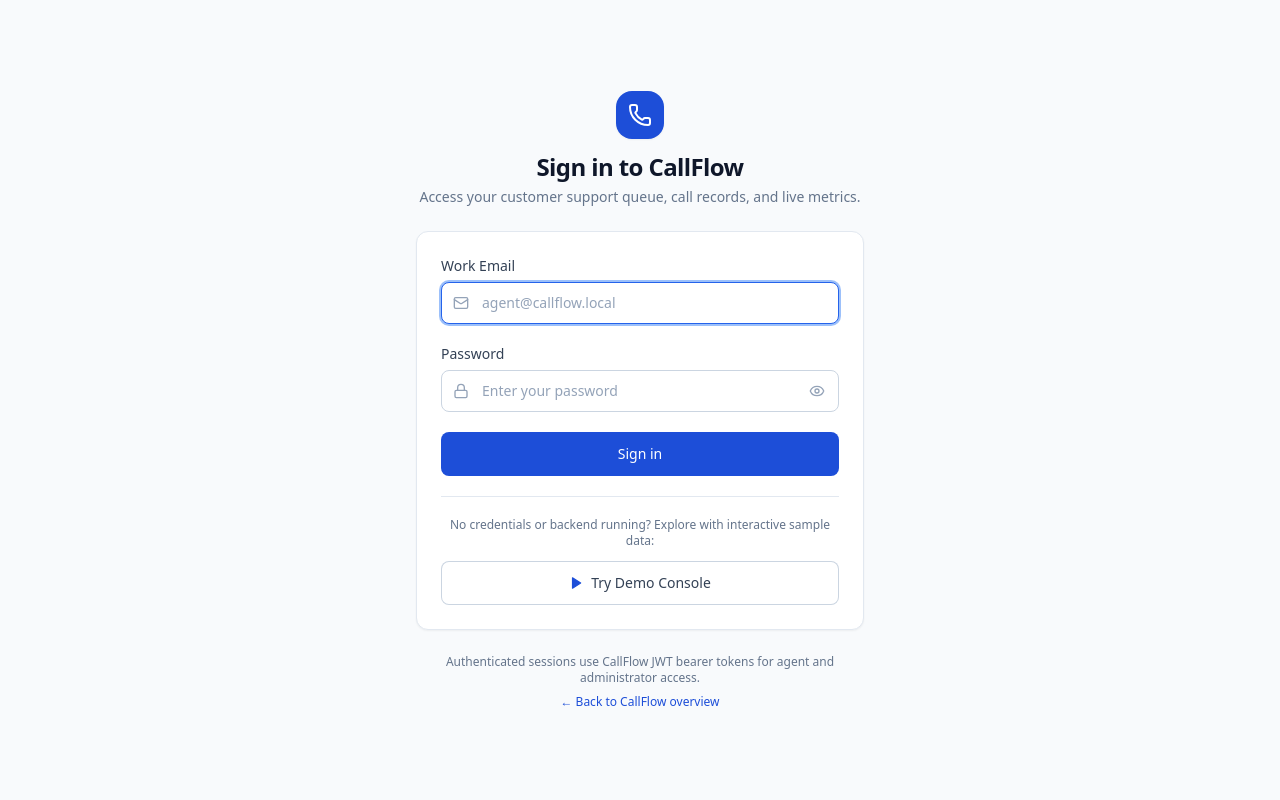
Test: LoginPage › authenticates, stores JWT token, and redirects to original protected destination
The width and height of the screenshot is (1280, 800).
Step 1. Type "  admin@callflow.local  " into the field labelled "Work Email" → (640,302), box 441,282 -> 839,324
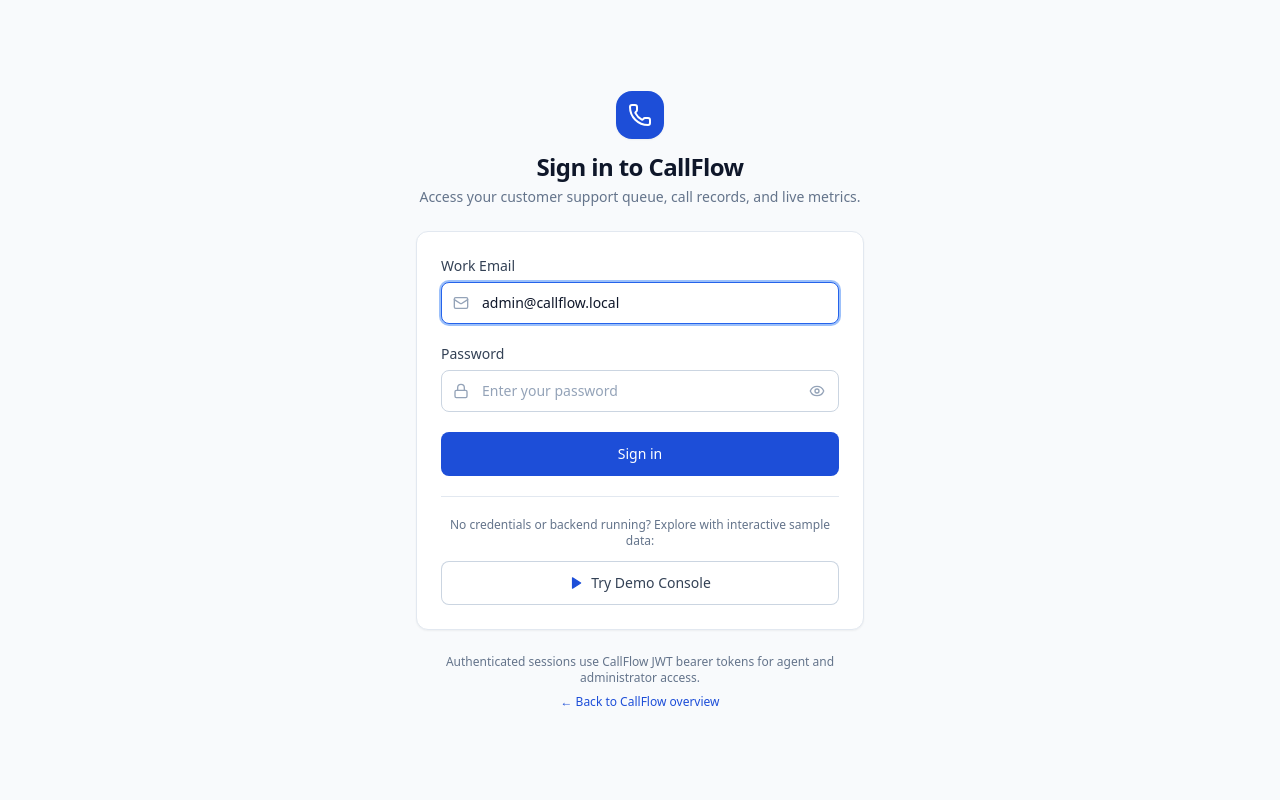
Step 2. Type "change_me_admin_pass" into the password field labelled "Password" → (640,390), box 441,370 -> 839,412
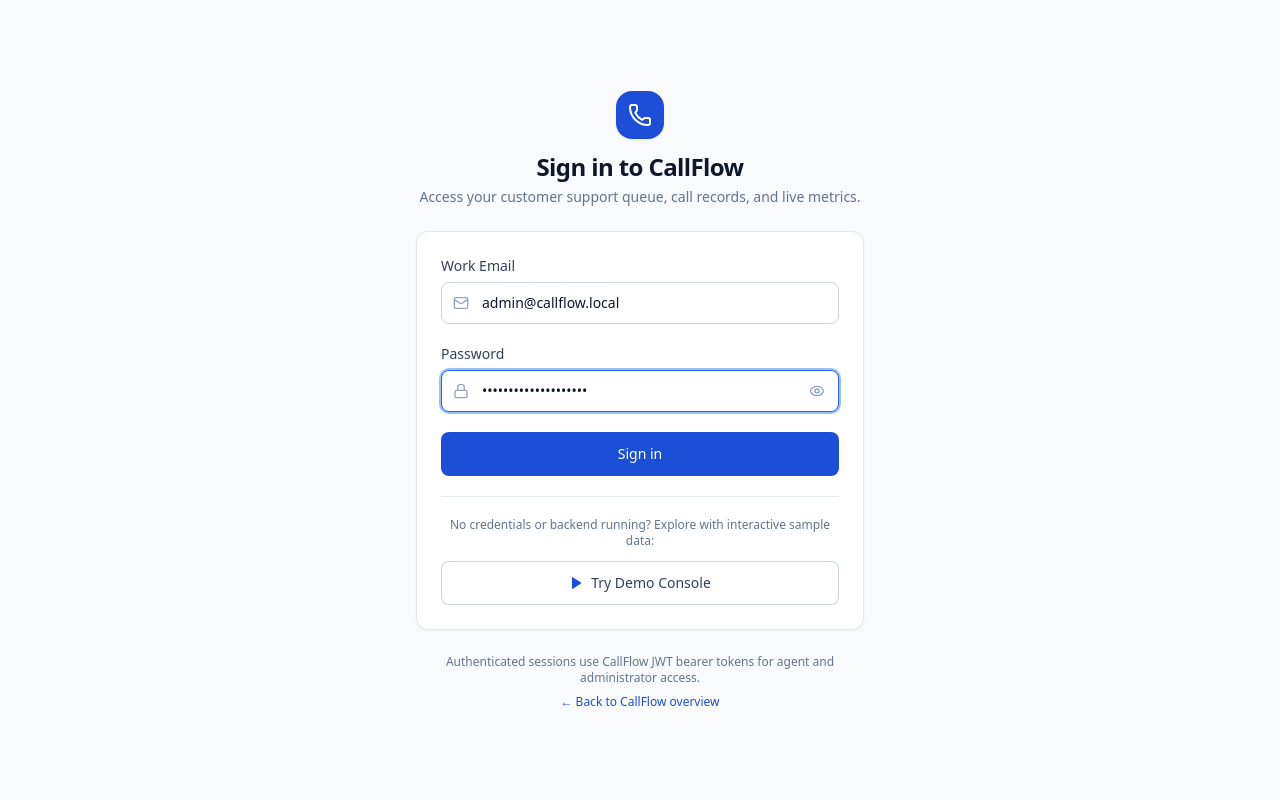
Step 3. Click the button "Sign in" → (640,454), box 441,432 -> 839,476
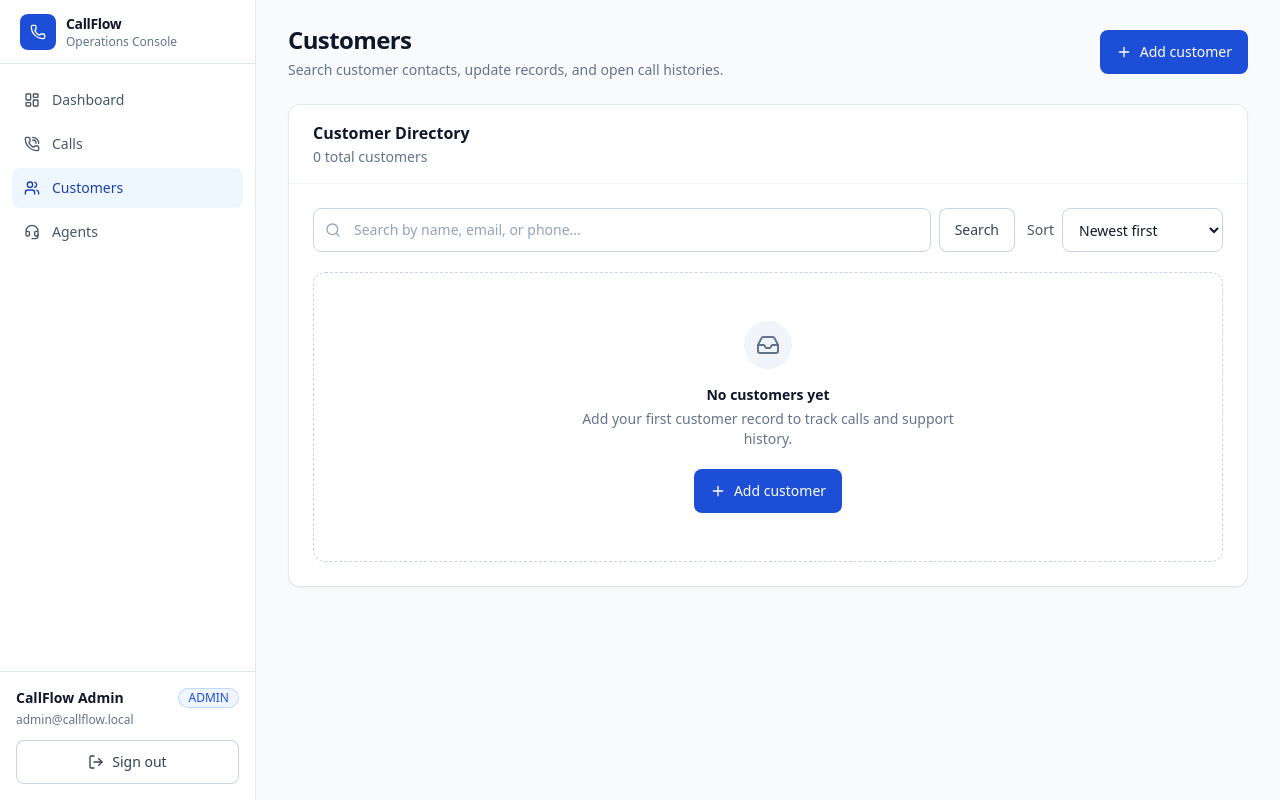
Expected: the heading "Customers" is shown, 288,23 -> 411,56
